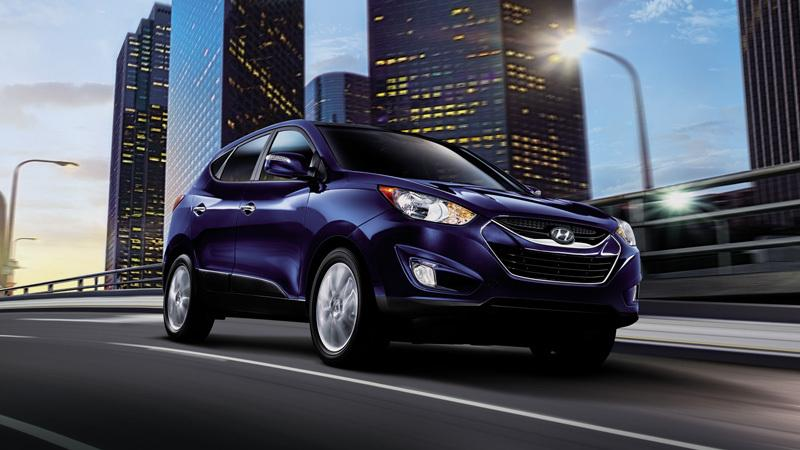car: (145, 110, 709, 378)
